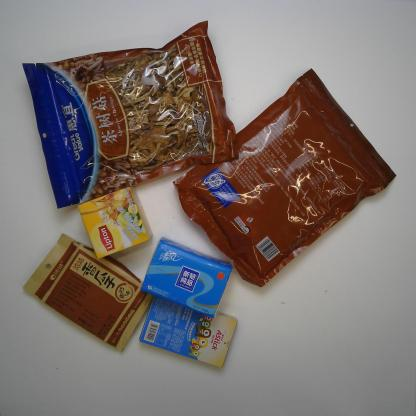Dessert: (139, 294, 238, 369)
Dried Food: (170, 66, 400, 289), (19, 16, 239, 213), (21, 232, 154, 356)
Instant Drink: (74, 187, 154, 261)
Tissue: (140, 236, 235, 320)
